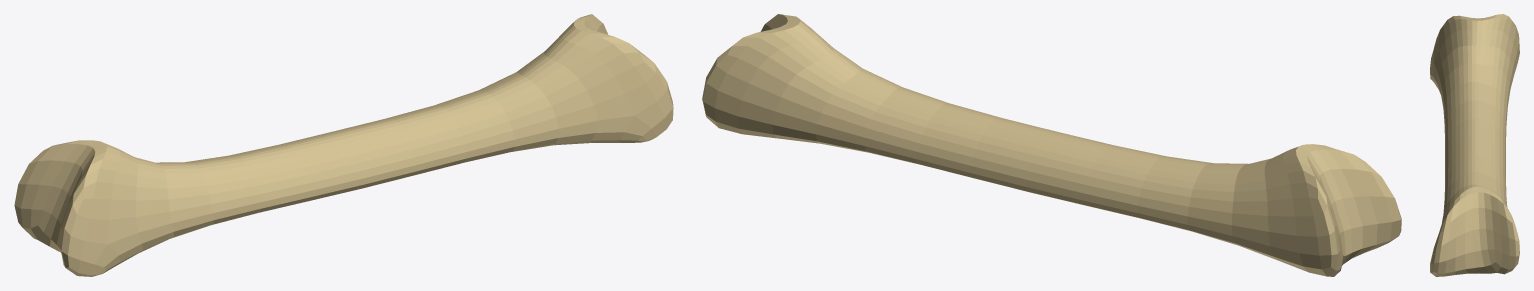
File: CherepKostBig 1.fbx
The picture shows the model from 3 angles, left to right: view 1: azimuth 30°, elevation 25°; view 2: azimuth 150°, elevation 25°; view 3: azimuth 270°, elevation 25°; orthographic projection. The views are drawn at different scales.
Parts seen in each view (by area): view 1: Cube.005; view 2: Cube.005; view 3: Cube.005.
Part boxes in pixels (<box>): Cube.005: <box>14,14,673,276</box>; Cube.005: <box>702,14,1401,276</box>; Cube.005: <box>1430,14,1519,276</box>.
Size of the model in its own units: 44.25 by 7.05 by 7.82.
